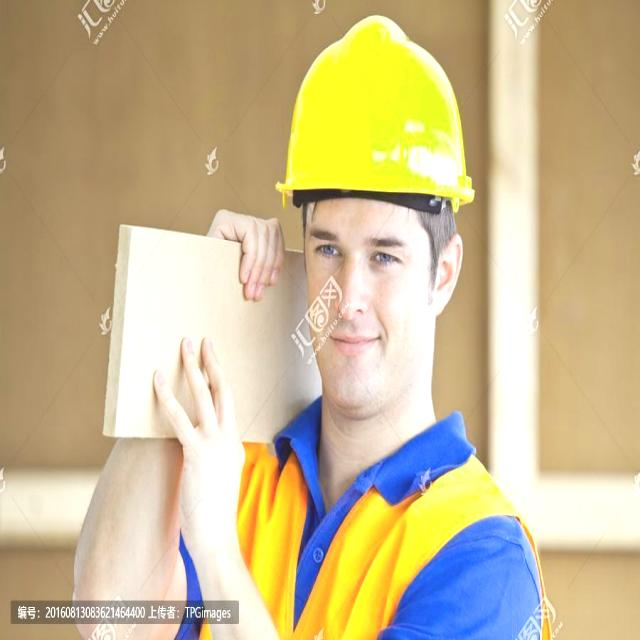face_nomask: (295, 206, 415, 390)
hand_noglove: (146, 339, 254, 569), (184, 185, 292, 318)
head_helmet: (271, 19, 477, 204)
person: (62, 5, 560, 634)
